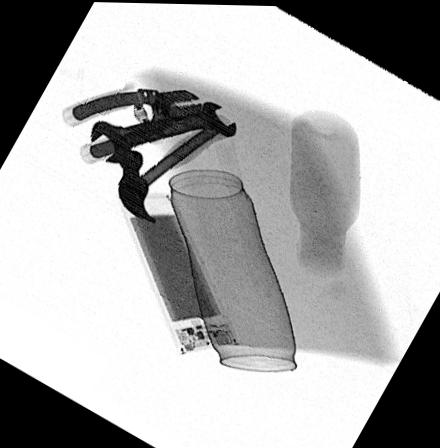Hammer: (115, 109, 232, 222)
Pliers: (61, 86, 204, 164)
Powerbank: (121, 191, 241, 353)
Wrench: (89, 98, 237, 163)
